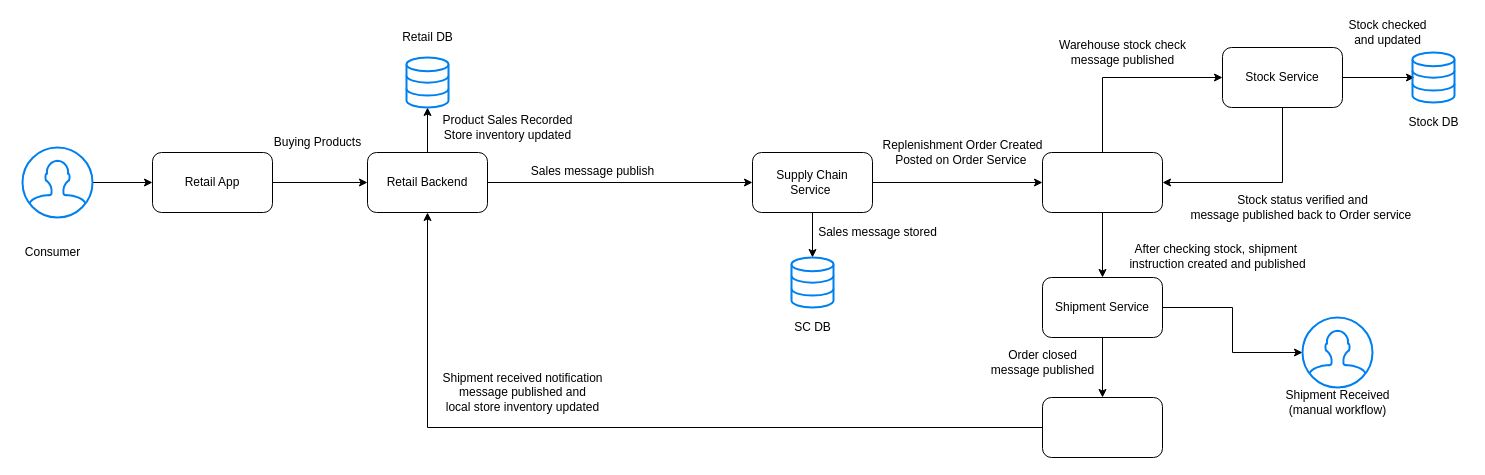
The diagram is 1485 pixels wide and 475 high, and some of its shapes have lost their labels. Each missing label, with the box of its shape:
Order Service: (1042, 152, 1162, 212)
Query Service: (1042, 396, 1162, 458)
